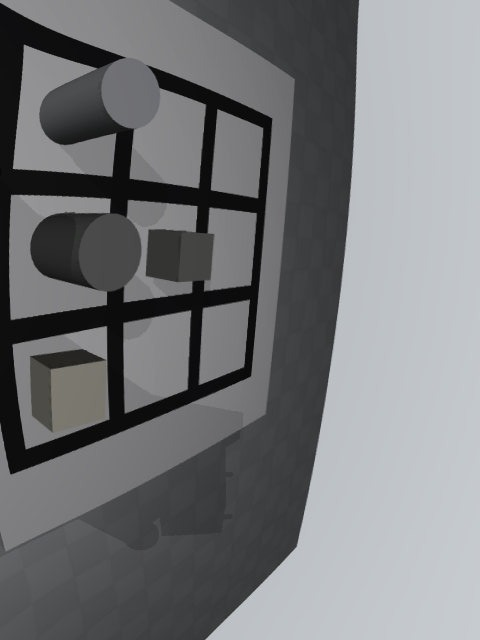can: (39, 58, 161, 145)
cube: (146, 229, 214, 282)
cylinder: (30, 213, 142, 292)
foam: (30, 349, 107, 433)
